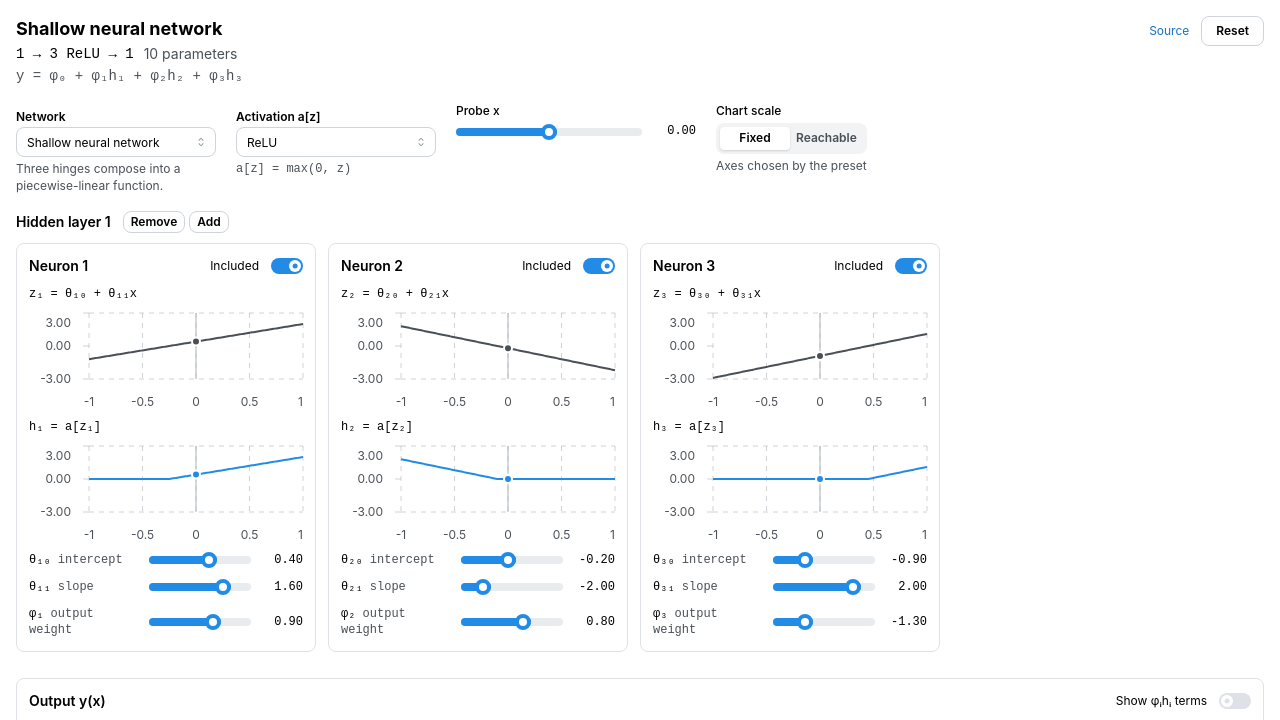
Test: adding a neuron renders another card and re-counts the parameters
Expected: the text "10 parameters" is shown, [144, 44, 238, 64]
Click the button with aria-label "Add a neuron to hidden layer 1": (209,222) [189, 211, 229, 233]
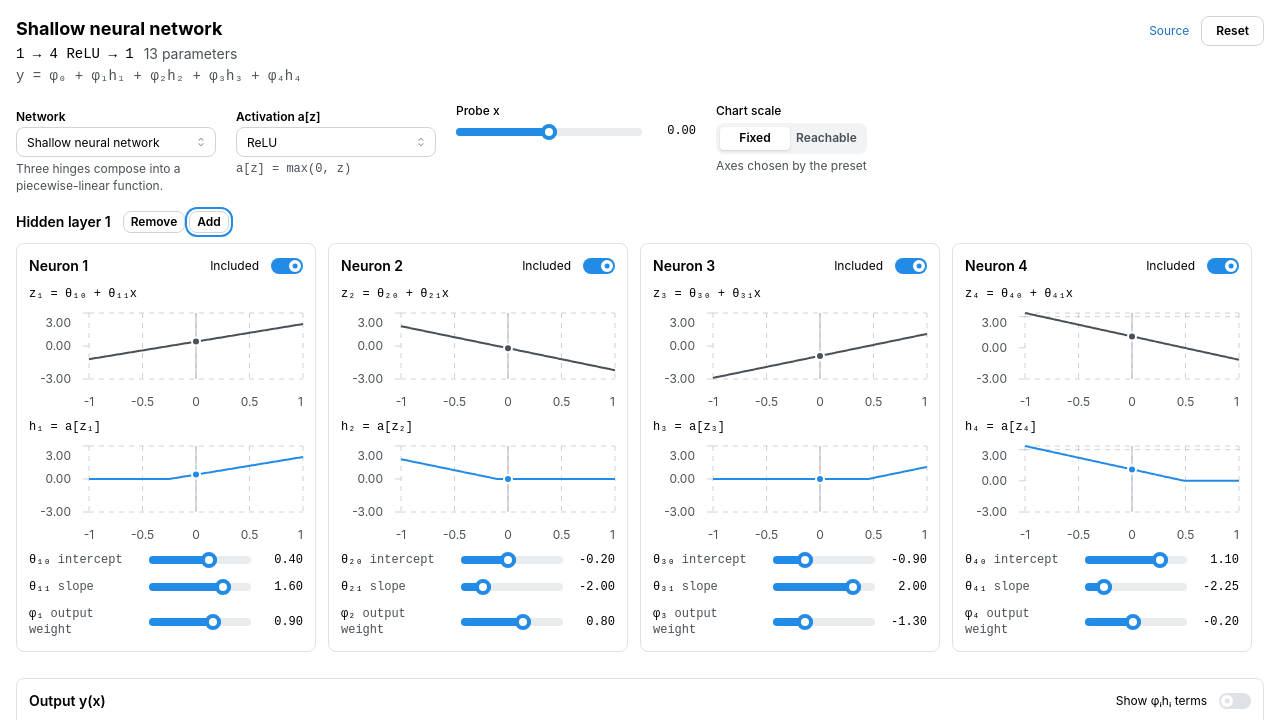
Now the text "13 parameters" is shown, box [144, 44, 237, 64]
Now the text "1 → 4 ReLU → 1" is shown, box [16, 44, 134, 64]
